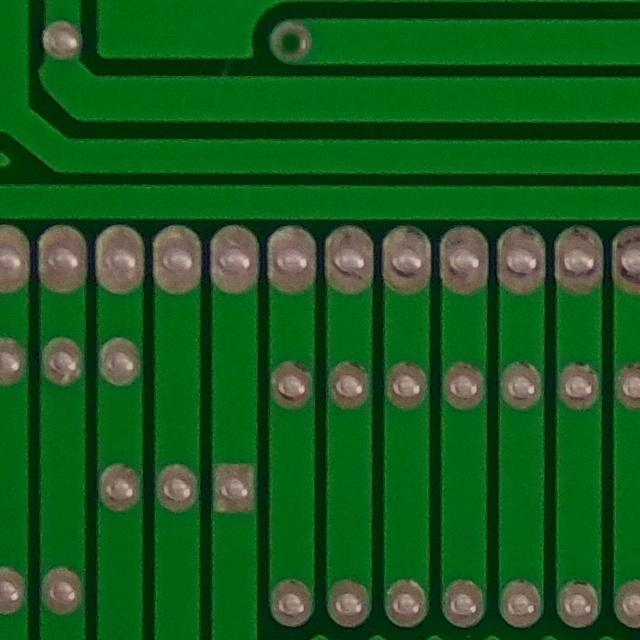missing_hole: (264, 13, 315, 71)
